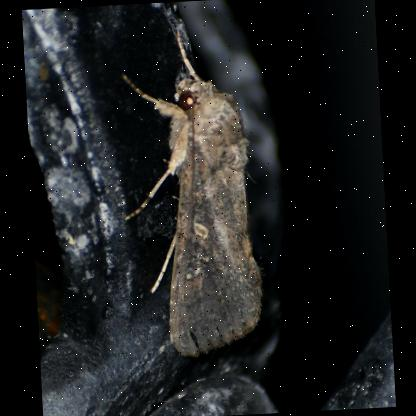Fall Armyworm Moth: (110, 23, 270, 365)
